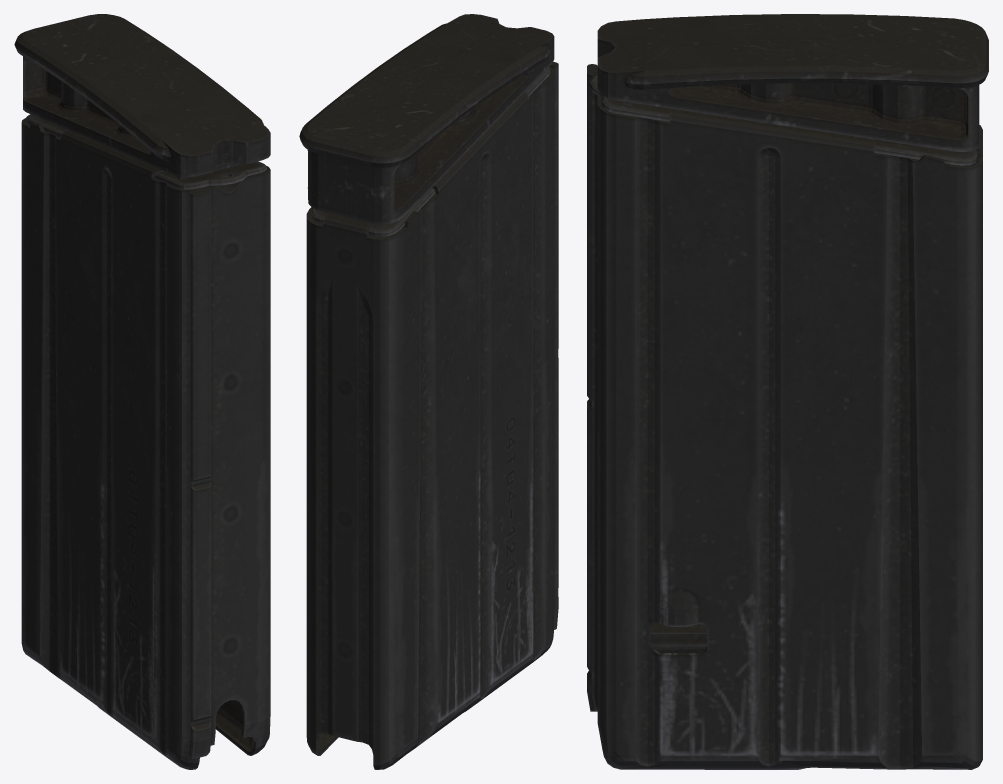
3 renders of one model, left to right at view 1: azimuth 30°, elevation 25°; view 2: azimuth 150°, elevation 25°; view 3: azimuth 270°, elevation 25°, orthographic. The views are drawn at different scales.
Visible parts, largest first — view 1: TW_618168dc8004cc50514c34fc_PZ_Import; view 2: TW_618168dc8004cc50514c34fc_PZ_Import; view 3: TW_618168dc8004cc50514c34fc_PZ_Import.
Part boxes in pixels (box(x1,y1,x2,y2)): TW_618168dc8004cc50514c34fc_PZ_Import: box(14, 14, 270, 769); TW_618168dc8004cc50514c34fc_PZ_Import: box(299, 14, 558, 769); TW_618168dc8004cc50514c34fc_PZ_Import: box(587, 14, 988, 769).
Size of the model in its own units: 0.0165 by 0.0468 by 0.0915.
Materials: 1 (1 with a texture image).
